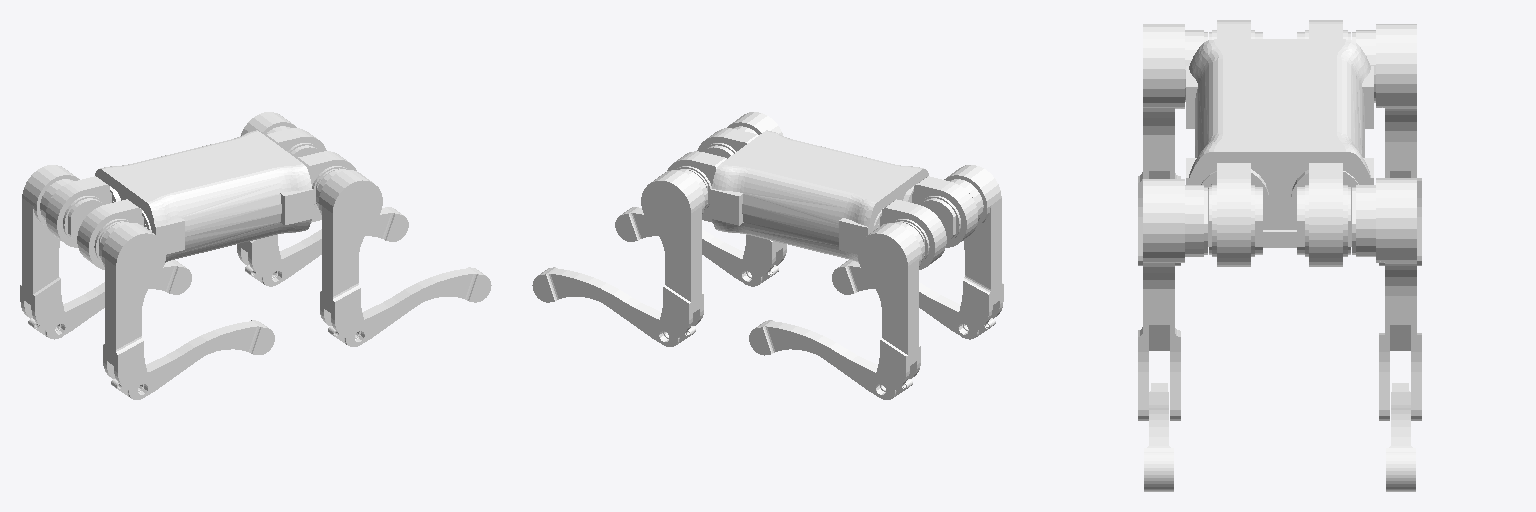
URDF robot description (QuadrupedRobot（2026） V1.2-URDF-20260508-V3):
<?xml version="1.0" encoding="utf-8"?>
<!-- This URDF was automatically created by SolidWorks to URDF Exporter! Originally created by Stephen Brawner (brawner@gmail.com) 
     Commit Version: 1.6.0-4-g7f85cfe  Build Version: 1.6.7995.38578
     For more information, please see http://wiki.ros.org/sw_urdf_exporter -->
<robot
  name="QuadrupedRobot（2026） V1.2-URDF-20260508-V3">
  <link
    name="base_link">
    <inertial>
      <origin
        xyz="5.0191E-11 4.7017E-09 2.0969E-11"
        rpy="0 0 0" />
      <mass
        value="30" />
      <inertia
        ixx="0.2720939"
        ixy="1.147E-08"
        ixz="7.3979E-10"
        iyy="0.6040536"
        iyz="8.6954E-09"
        izz="0.7274273" />
    </inertial>
    <visual>
      <origin
        xyz="0 0 0"
        rpy="0 0 0" />
      <geometry>
        <mesh
          filename="../meshes/base_link.STL" />
      </geometry>
      <material
        name="">
        <color
          rgba="1 1 1 1" />
      </material>
    </visual>
    <collision>
      <origin
        xyz="0 0 0"
        rpy="0 0 0" />
      <geometry>
        <mesh
          filename="../meshes/base_link.STL" />
      </geometry>
    </collision>
  </link>
  <link
    name="FL_hip_Link">
    <inertial>
      <origin
        xyz="-0.0064702 -0.0031168 -1.8861E-09"
        rpy="0 0 0" />
      <mass
        value="2.5" />
      <inertia
        ixx="0.004546"
        ixy="-3.65E-05"
        ixz="4.5559E-09"
        iyy="0.0072194"
        iyz="-1.0818E-08"
        izz="0.0050078" />
    </inertial>
    <visual>
      <origin
        xyz="0 0 0"
        rpy="0 0 0" />
      <geometry>
        <mesh
          filename="../meshes/FL_hip_Link.STL" />
      </geometry>
      <material
        name="">
        <color
          rgba="1 1 1 1" />
      </material>
    </visual>
    <collision>
      <origin
        xyz="0 0 0"
        rpy="0 0 0" />
      <geometry>
        <mesh
          filename="../meshes/FL_hip_Link.STL" />
      </geometry>
    </collision>
  </link>
  <joint
    name="FL_hip_Joint"
    type="revolute">
    <origin
      xyz="0.31 0.08 0"
      rpy="0 0 0" />
    <parent
      link="base_link" />
    <child
      link="FL_hip_Link" />
    <axis
      xyz="1 0 0" />
    <limit
      lower="-0.7854"
      upper="0.7854"
      effort="75"
      velocity="13.96" />
  </joint>
  <link
    name="FL_thigh_Link">
    <inertial>
      <origin
        xyz="-0.013506 -0.013585 -0.076918"
        rpy="0 0 0" />
      <mass
        value="3.6" />
      <inertia
        ixx="0.047254"
        ixy="-0.0006776"
        ixz="0.0050935"
        iyy="0.048528"
        iyz="-0.003829"
        izz="0.0074044" />
    </inertial>
    <visual>
      <origin
        xyz="0 0 0"
        rpy="0 0 0" />
      <geometry>
        <mesh
          filename="../meshes/FL_thigh_Link.STL" />
      </geometry>
      <material
        name="">
        <color
          rgba="1 1 1 1" />
      </material>
    </visual>
    <collision>
      <origin
        xyz="0 0 0"
        rpy="0 0 0" />
      <geometry>
        <mesh
          filename="../meshes/FL_thigh_Link.STL" />
      </geometry>
    </collision>
  </link>
  <joint
    name="FL_thigh_Joint"
    type="revolute">
    <origin
      xyz="0 0.125 0"
      rpy="0 0 0" />
    <parent
      link="FL_hip_Link" />
    <child
      link="FL_thigh_Link" />
    <axis
      xyz="0 -1 0" />
    <limit
      lower="-4.1538"
      upper="1.012"
      effort="120"
      velocity="8.72" />
  </joint>
  <link
    name="FL_calf_Link">
    <inertial>
      <origin
        xyz="0.01548 5.1235E-08 -0.16117"
        rpy="0 0 0" />
      <mass
        value="1.2" />
      <inertia
        ixx="0.017699"
        ixy="2.717E-10"
        ixz="-0.0011852"
        iyy="0.018059"
        iyz="-6.8945E-09"
        izz="0.0006172" />
    </inertial>
    <visual>
      <origin
        xyz="0 0 0"
        rpy="0 0 0" />
      <geometry>
        <mesh
          filename="../meshes/FL_calf_Link.STL" />
      </geometry>
      <material
        name="">
        <color
          rgba="1 1 1 1" />
      </material>
    </visual>
    <collision>
      <origin
        xyz="0 0 0"
        rpy="0 0 0" />
      <geometry>
        <mesh
          filename="../meshes/FL_calf_Link.STL" />
      </geometry>
    </collision>
  </link>
  <joint
    name="FL_calf_Joint"
    type="revolute">
    <origin
      xyz="0 0 -0.35"
      rpy="0 0 0" />
    <parent
      link="FL_thigh_Link" />
    <child
      link="FL_calf_Link" />
    <axis
      xyz="0 -1 0" />
    <limit
      lower="0.61086"
      upper="2.7925"
      effort="120"
      velocity="8.72" />
  </joint>
  <link
    name="FL_foot_Link">
    <inertial>
      <origin
        xyz="-0.0062191 -2.5813E-15 -0.011423"
        rpy="0 0 0" />
      <mass
        value="0.2" />
      <inertia
        ixx="7.7E-05"
        ixy="2.2617E-10"
        ixz="-1.97E-05"
        iyy="9.6E-05"
        iyz="-5.7823E-10"
        izz="0.0001024" />
    </inertial>
    <visual>
      <origin
        xyz="0 0 0"
        rpy="0 0 0" />
      <geometry>
        <mesh
          filename="../meshes/FL_foot_Link.STL" />
      </geometry>
      <material
        name="">
        <color
          rgba="1 1 1 1" />
      </material>
    </visual>
    <collision>
      <origin
        xyz="0 0 0"
        rpy="0 0 0" />
      <geometry>
        <mesh
          filename="../meshes/FL_foot_Link.STL" />
      </geometry>
    </collision>
  </link>
  <joint
    name="FL_foot_Joint"
    type="fixed">
    <origin
      xyz="0 0 -0.35"
      rpy="0 0 0" />
    <parent
      link="FL_calf_Link" />
    <child
      link="FL_foot_Link" />
    <axis
      xyz="0 0 0" />
  </joint>
  <link
    name="FR_hip_Link">
    <inertial>
      <origin
        xyz="-0.0064702 0.0031168 1.8861E-09"
        rpy="0 0 0" />
      <mass
        value="2.5" />
      <inertia
        ixx="0.0045464"
        ixy="3.65E-05"
        ixz="-4.5559E-09"
        iyy="0.0072194"
        iyz="-1.0818E-08"
        izz="0.0050078" />
    </inertial>
    <visual>
      <origin
        xyz="0 0 0"
        rpy="0 0 0" />
      <geometry>
        <mesh
          filename="../meshes/FR_hip_Link.STL" />
      </geometry>
      <material
        name="">
        <color
          rgba="1 1 1 1" />
      </material>
    </visual>
    <collision>
      <origin
        xyz="0 0 0"
        rpy="0 0 0" />
      <geometry>
        <mesh
          filename="../meshes/FR_hip_Link.STL" />
      </geometry>
    </collision>
  </link>
  <joint
    name="FR_hip_Joint"
    type="revolute">
    <origin
      xyz="0.31 -0.08 0"
      rpy="0 0 0" />
    <parent
      link="base_link" />
    <child
      link="FR_hip_Link" />
    <axis
      xyz="1 0 0" />
    <limit
      lower="-0.7854"
      upper="0.7854"
      effort="75"
      velocity="13.96" />
  </joint>
  <link
    name="FR_thigh_Link">
    <inertial>
      <origin
        xyz="-0.013505 0.013599 -0.077042"
        rpy="0 0 0" />
      <mass
        value="3.6" />
      <inertia
        ixx="0.0472449"
        ixy="0.000678"
        ixz="0.0051024"
        iyy="0.0485268"
        iyz="0.0038394"
        izz="0.0074105" />
    </inertial>
    <visual>
      <origin
        xyz="0 0 0"
        rpy="0 0 0" />
      <geometry>
        <mesh
          filename="../meshes/FR_thigh_Link.STL" />
      </geometry>
      <material
        name="">
        <color
          rgba="1 1 1 1" />
      </material>
    </visual>
    <collision>
      <origin
        xyz="0 0 0"
        rpy="0 0 0" />
      <geometry>
        <mesh
          filename="../meshes/FR_thigh_Link.STL" />
      </geometry>
    </collision>
  </link>
  <joint
    name="FR_thigh_Joint"
    type="revolute">
    <origin
      xyz="0 -0.125 0"
      rpy="0 0 0" />
    <parent
      link="FR_hip_Link" />
    <child
      link="FR_thigh_Link" />
    <axis
      xyz="0 1 0" />
    <limit
      lower="-1.012"
      upper="4.1538"
      effort="120"
      velocity="8.72" />
  </joint>
  <link
    name="FR_calf_Link">
    <inertial>
      <origin
        xyz="0.01548 5.1235E-08 -0.16117"
        rpy="0 0 0" />
      <mass
        value="1.2" />
      <inertia
        ixx="0.0176987"
        ixy="2.717E-10"
        ixz="-0.0011852"
        iyy="0.0180589"
        iyz="-6.8945E-09"
        izz="0.0006172" />
    </inertial>
    <visual>
      <origin
        xyz="0 0 0"
        rpy="0 0 0" />
      <geometry>
        <mesh
          filename="../meshes/FR_calf_Link.STL" />
      </geometry>
      <material
        name="">
        <color
          rgba="1 1 1 1" />
      </material>
    </visual>
    <collision>
      <origin
        xyz="0 0 0"
        rpy="0 0 0" />
      <geometry>
        <mesh
          filename="../meshes/FR_calf_Link.STL" />
      </geometry>
    </collision>
  </link>
  <joint
    name="FR_calf_Joint"
    type="revolute">
    <origin
      xyz="0 0 -0.35"
      rpy="0 0 0" />
    <parent
      link="FR_thigh_Link" />
    <child
      link="FR_calf_Link" />
    <axis
      xyz="0 -1 0" />
    <limit
      lower="0.61086"
      upper="2.7925"
      effort="120"
      velocity="8.72" />
  </joint>
  <link
    name="FR_foot_Link">
    <inertial>
      <origin
        xyz="-0.0062191 -2.498E-15 -0.011423"
        rpy="0 0 0" />
      <mass
        value="0.2" />
      <inertia
        ixx="7.7E-05"
        ixy="2.2617E-10"
        ixz="-1.97E-05"
        iyy="9.6E-05"
        iyz="-5.7823E-10"
        izz="0.0001024" />
    </inertial>
    <visual>
      <origin
        xyz="0 0 0"
        rpy="0 0 0" />
      <geometry>
        <mesh
          filename="../meshes/FR_foot_Link.STL" />
      </geometry>
      <material
        name="">
        <color
          rgba="1 1 1 1" />
      </material>
    </visual>
    <collision>
      <origin
        xyz="0 0 0"
        rpy="0 0 0" />
      <geometry>
        <mesh
          filename="../meshes/FR_foot_Link.STL" />
      </geometry>
    </collision>
  </link>
  <joint
    name="FR_foot_Joint"
    type="fixed">
    <origin
      xyz="0 0 -0.35"
      rpy="0 0 0" />
    <parent
      link="FR_calf_Link" />
    <child
      link="FR_foot_Link" />
    <axis
      xyz="0 0 0" />
  </joint>
  <link
    name="RL_hip_Link">
    <inertial>
      <origin
        xyz="0.0064702 -0.0031168 1.8861E-09"
        rpy="0 0 0" />
      <mass
        value="2.5" />
      <inertia
        ixx="0.0045464"
        ixy="3.65E-05"
        ixz="4.5559E-09"
        iyy="0.0072194"
        iyz="1.0818E-08"
        izz="0.0050078" />
    </inertial>
    <visual>
      <origin
        xyz="0 0 0"
        rpy="0 0 0" />
      <geometry>
        <mesh
          filename="../meshes/RL_hip_Link.STL" />
      </geometry>
      <material
        name="">
        <color
          rgba="1 1 1 1" />
      </material>
    </visual>
    <collision>
      <origin
        xyz="0 0 0"
        rpy="0 0 0" />
      <geometry>
        <mesh
          filename="../meshes/RL_hip_Link.STL" />
      </geometry>
    </collision>
  </link>
  <joint
    name="RL_hip_Joint"
    type="revolute">
    <origin
      xyz="-0.31 0.08 0"
      rpy="0 0 0" />
    <parent
      link="base_link" />
    <child
      link="RL_hip_Link" />
    <axis
      xyz="-1 0 0" />
    <limit
      lower="-0.7854"
      upper="0.7854"
      effort="75"
      velocity="13.96" />
  </joint>
  <link
    name="RL_thigh_Link">
    <inertial>
      <origin
        xyz="-0.013506 -0.013585 -0.076918"
        rpy="0 0 0" />
      <mass
        value="3.6" />
      <inertia
        ixx="0.047254"
        ixy="-0.0006776"
        ixz="0.0050935"
        iyy="0.048528"
        iyz="-0.003829"
        izz="0.0074044" />
    </inertial>
    <visual>
      <origin
        xyz="0 0 0"
        rpy="0 0 0" />
      <geometry>
        <mesh
          filename="../meshes/RL_thigh_Link.STL" />
      </geometry>
      <material
        name="">
        <color
          rgba="1 1 1 1" />
      </material>
    </visual>
    <collision>
      <origin
        xyz="0 0 0"
        rpy="0 0 0" />
      <geometry>
        <mesh
          filename="../meshes/RL_thigh_Link.STL" />
      </geometry>
    </collision>
  </link>
  <joint
    name="RL_thigh_Joint"
    type="revolute">
    <origin
      xyz="0 0.125 0"
      rpy="0 0 0" />
    <parent
      link="RL_hip_Link" />
    <child
      link="RL_thigh_Link" />
    <axis
      xyz="0 -1 0" />
    <limit
      lower="-4.1538"
      upper="1.012"
      effort="120"
      velocity="8.72" />
  </joint>
  <link
    name="RL_calf_Link">
    <inertial>
      <origin
        xyz="0.01548 5.1235E-08 -0.16117"
        rpy="0 0 0" />
      <mass
        value="1.2" />
      <inertia
        ixx="0.017699"
        ixy="2.717E-10"
        ixz="-0.0011852"
        iyy="0.018059"
        iyz="-6.8945E-09"
        izz="0.0006172" />
    </inertial>
    <visual>
      <origin
        xyz="0 0 0"
        rpy="0 0 0" />
      <geometry>
        <mesh
          filename="../meshes/RL_calf_Link.STL" />
      </geometry>
      <material
        name="">
        <color
          rgba="1 1 1 1" />
      </material>
    </visual>
    <collision>
      <origin
        xyz="0 0 0"
        rpy="0 0 0" />
      <geometry>
        <mesh
          filename="../meshes/RL_calf_Link.STL" />
      </geometry>
    </collision>
  </link>
  <joint
    name="RL_calf_Joint"
    type="revolute">
    <origin
      xyz="0 0 -0.35"
      rpy="0 0 0" />
    <parent
      link="RL_thigh_Link" />
    <child
      link="RL_calf_Link" />
    <axis
      xyz="0 -1 0" />
    <limit
      lower="0.61086"
      upper="2.7925"
      effort="120"
      velocity="8.72" />
  </joint>
  <link
    name="RL_foot_Link">
    <inertial>
      <origin
        xyz="-0.0062191 -2.4425E-15 -0.011423"
        rpy="0 0 0" />
      <mass
        value="0.2" />
      <inertia
        ixx="7.7E-05"
        ixy="2.2617E-10"
        ixz="-1.97E-05"
        iyy="9.6E-05"
        iyz="-5.7823E-10"
        izz="0.0001024" />
    </inertial>
    <visual>
      <origin
        xyz="0 0 0"
        rpy="0 0 0" />
      <geometry>
        <mesh
          filename="../meshes/RL_foot_Link.STL" />
      </geometry>
      <material
        name="">
        <color
          rgba="1 1 1 1" />
      </material>
    </visual>
    <collision>
      <origin
        xyz="0 0 0"
        rpy="0 0 0" />
      <geometry>
        <mesh
          filename="../meshes/RL_foot_Link.STL" />
      </geometry>
    </collision>
  </link>
  <joint
    name="RL_foot_Joint"
    type="fixed">
    <origin
      xyz="0 0 -0.35"
      rpy="0 0 0" />
    <parent
      link="RL_calf_Link" />
    <child
      link="RL_foot_Link" />
    <axis
      xyz="0 0 0" />
  </joint>
  <link
    name="RR_hip_Link">
    <inertial>
      <origin
        xyz="0.0064702 0.0031168 -1.8861E-09"
        rpy="0 0 0" />
      <mass
        value="2.5" />
      <inertia
        ixx="0.004546"
        ixy="-0.000365"
        ixz="-4.5559E-09"
        iyy="0.0072194"
        iyz="1.0818E-08"
        izz="0.0050078" />
    </inertial>
    <visual>
      <origin
        xyz="0 0 0"
        rpy="0 0 0" />
      <geometry>
        <mesh
          filename="../meshes/RR_hip_Link.STL" />
      </geometry>
      <material
        name="">
        <color
          rgba="1 1 1 1" />
      </material>
    </visual>
    <collision>
      <origin
        xyz="0 0 0"
        rpy="0 0 0" />
      <geometry>
        <mesh
          filename="../meshes/RR_hip_Link.STL" />
      </geometry>
    </collision>
  </link>
  <joint
    name="RR_hip_Joint"
    type="revolute">
    <origin
      xyz="-0.31 -0.08 0"
      rpy="0 0 0" />
    <parent
      link="base_link" />
    <child
      link="RR_hip_Link" />
    <axis
      xyz="-1 0 0" />
    <limit
      lower="-0.7854"
      upper="0.7854"
      effort="75"
      velocity="13.96" />
  </joint>
  <link
    name="RR_thigh_Link">
    <inertial>
      <origin
        xyz="-0.013505 0.013599 -0.077042"
        rpy="0 0 0" />
      <mass
        value="3.6" />
      <inertia
        ixx="0.047245"
        ixy="0.000678"
        ixz="0.0051024"
        iyy="0.048527"
        iyz="0.0038394"
        izz="0.0074105" />
    </inertial>
    <visual>
      <origin
        xyz="0 0 0"
        rpy="0 0 0" />
      <geometry>
        <mesh
          filename="../meshes/RR_thigh_Link.STL" />
      </geometry>
      <material
        name="">
        <color
          rgba="1 1 1 1" />
      </material>
    </visual>
    <collision>
      <origin
        xyz="0 0 0"
        rpy="0 0 0" />
      <geometry>
        <mesh
          filename="../meshes/RR_thigh_Link.STL" />
      </geometry>
    </collision>
  </link>
  <joint
    name="RR_thigh_Joint"
    type="revolute">
    <origin
      xyz="0 -0.125 0"
      rpy="0 0 0" />
    <parent
      link="RR_hip_Link" />
    <child
      link="RR_thigh_Link" />
    <axis
      xyz="0 1 0" />
    <limit
      lower="-1.012"
      upper="4.1538"
      effort="120"
      velocity="8.72" />
  </joint>
  <link
    name="RR_calf_Link">
    <inertial>
      <origin
        xyz="0.01548 5.1235E-08 -0.16117"
        rpy="0 0 0" />
      <mass
        value="1.2" />
      <inertia
        ixx="0.017699"
        ixy="2.717E-10"
        ixz="-0.0011852"
        iyy="0.018059"
        iyz="-6.8945E-09"
        izz="0.0006172" />
    </inertial>
    <visual>
      <origin
        xyz="0 0 0"
        rpy="0 0 0" />
      <geometry>
        <mesh
          filename="../meshes/RR_calf_Link.STL" />
      </geometry>
      <material
        name="">
        <color
          rgba="1 1 1 1" />
      </material>
    </visual>
    <collision>
      <origin
        xyz="0 0 0"
        rpy="0 0 0" />
      <geometry>
        <mesh
          filename="../meshes/RR_calf_Link.STL" />
      </geometry>
    </collision>
  </link>
  <joint
    name="RR_calf_Joint"
    type="revolute">
    <origin
      xyz="0 0 -0.35"
      rpy="0 0 0" />
    <parent
      link="RR_thigh_Link" />
    <child
      link="RR_calf_Link" />
    <axis
      xyz="0 -1 0" />
    <limit
      lower="0.61086"
      upper="2.7925"
      effort="120"
      velocity="8.72" />
  </joint>
  <link
    name="RR_foot_Link">
    <inertial>
      <origin
        xyz="-0.0062191 -2.498E-15 -0.011423"
        rpy="0 0 0" />
      <mass
        value="0.2" />
      <inertia
        ixx="7.7E-05"
        ixy="2.2617E-10"
        ixz="-1.97E-05"
        iyy="9.6E-05"
        iyz="-5.7823E-10"
        izz="0.0001024" />
    </inertial>
    <visual>
      <origin
        xyz="0 0 0"
        rpy="0 0 0" />
      <geometry>
        <mesh
          filename="../meshes/RR_foot_Link.STL" />
      </geometry>
      <material
        name="">
        <color
          rgba="1 1 1 1" />
      </material>
    </visual>
    <collision>
      <origin
        xyz="0 0 0"
        rpy="0 0 0" />
      <geometry>
        <mesh
          filename="../meshes/RR_foot_Link.STL" />
      </geometry>
    </collision>
  </link>
  <joint
    name="RR_foot_Joint"
    type="fixed">
    <origin
      xyz="0 0 -0.35"
      rpy="0 0 0" />
    <parent
      link="RR_calf_Link" />
    <child
      link="RR_foot_Link" />
    <axis
      xyz="0 0 0" />
  </joint>
</robot>

--- Render facts (derived) ---
Views: 3 orthographic renders of the robot side by side, from view 1: azimuth 30°, elevation 25°; view 2: azimuth 150°, elevation 25°; view 3: azimuth 270°, elevation 25°.
Model QuadrupedRobot（2026） V1.2-URDF-20260508-V3 with 17 links and 16 joints (12 revolute, 4 fixed), rooted at base_link, posed all joints at 0 but 4 set to mid-range because 0 is outside their limits (FL_calf_Joint = 1.7, FR_calf_Joint = 1.7, RL_calf_Joint = 1.7, RR_calf_Joint = 1.7).
Links seen in each view (by area): view 1: base_link, RR_thigh_Link, FR_thigh_Link, RL_thigh_Link, FR_calf_Link, RR_calf_Link, RL_hip_Link, FL_thigh_Link, RR_hip_Link, FL_calf_Link, RL_calf_Link, FR_hip_Link (+1 smaller); view 2: base_link, RL_thigh_Link, FL_thigh_Link, RR_thigh_Link, FL_calf_Link, RL_calf_Link, RR_hip_Link, FR_thigh_Link, RL_hip_Link, FR_calf_Link, RR_calf_Link, FL_hip_Link (+1 smaller); view 3: base_link, FR_thigh_Link, FL_thigh_Link, RR_thigh_Link, RL_thigh_Link, FR_hip_Link, FL_hip_Link, FL_calf_Link, FR_calf_Link, FL_foot_Link, FR_foot_Link, RL_hip_Link (+1 smaller).
Link boxes in pixels (left/top/right/bottom): base_link: left=95, top=130, right=313, bottom=262; RR_thigh_Link: left=99, top=222, right=165, bottom=397; FR_thigh_Link: left=316, top=169, right=382, bottom=344; RL_thigh_Link: left=20, top=165, right=79, bottom=336; FR_calf_Link: left=328, top=267, right=480, bottom=346; RR_calf_Link: left=111, top=320, right=264, bottom=399; RL_hip_Link: left=46, top=176, right=113, bottom=247; FL_thigh_Link: left=237, top=112, right=296, bottom=284; RR_hip_Link: left=77, top=199, right=146, bottom=269; FL_calf_Link: left=245, top=207, right=398, bottom=286; RL_calf_Link: left=28, top=260, right=181, bottom=339; FR_hip_Link: left=297, top=151, right=356, bottom=222; base_link: left=710, top=130, right=928, bottom=262; RL_thigh_Link: left=858, top=222, right=924, bottom=397; FL_thigh_Link: left=641, top=169, right=707, bottom=344; RR_thigh_Link: left=944, top=165, right=1003, bottom=336; FL_calf_Link: left=543, top=267, right=695, bottom=346; RL_calf_Link: left=759, top=320, right=912, bottom=399; RR_hip_Link: left=910, top=176, right=977, bottom=247; FR_thigh_Link: left=727, top=112, right=786, bottom=284; RL_hip_Link: left=877, top=199, right=946, bottom=269; FR_calf_Link: left=625, top=207, right=778, bottom=286; RR_calf_Link: left=842, top=260, right=995, bottom=339; FL_hip_Link: left=667, top=151, right=726, bottom=222; base_link: left=1186, top=39, right=1373, bottom=247; FR_thigh_Link: left=1138, top=179, right=1207, bottom=420; FL_thigh_Link: left=1352, top=178, right=1421, bottom=420; RR_thigh_Link: left=1138, top=24, right=1207, bottom=265; RL_thigh_Link: left=1352, top=24, right=1421, bottom=265; FR_hip_Link: left=1208, top=163, right=1262, bottom=266; FL_hip_Link: left=1297, top=163, right=1351, bottom=266; FL_calf_Link: left=1386, top=383, right=1415, bottom=452; FR_calf_Link: left=1144, top=383, right=1173, bottom=452; FL_foot_Link: left=1386, top=453, right=1415, bottom=491; FR_foot_Link: left=1144, top=453, right=1173, bottom=491; RL_hip_Link: left=1297, top=20, right=1350, bottom=39.
Size in the robot's own frame: 1.08 by 0.483 by 0.4759 metres.
Meshes: 17 distinct files referenced, 17 mesh visuals loaded (17 binary STL).
